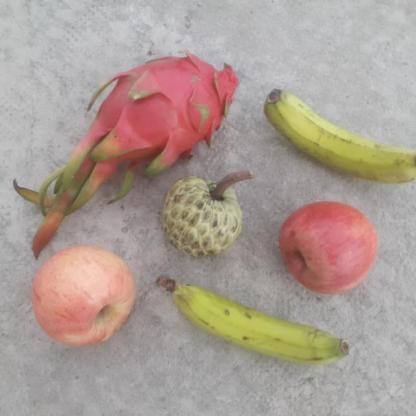annona: (160, 175, 250, 260)
apple: (30, 242, 139, 347), (279, 200, 381, 297)
banana: (157, 273, 353, 365), (264, 84, 416, 192)
pitaya: (85, 48, 237, 176)
